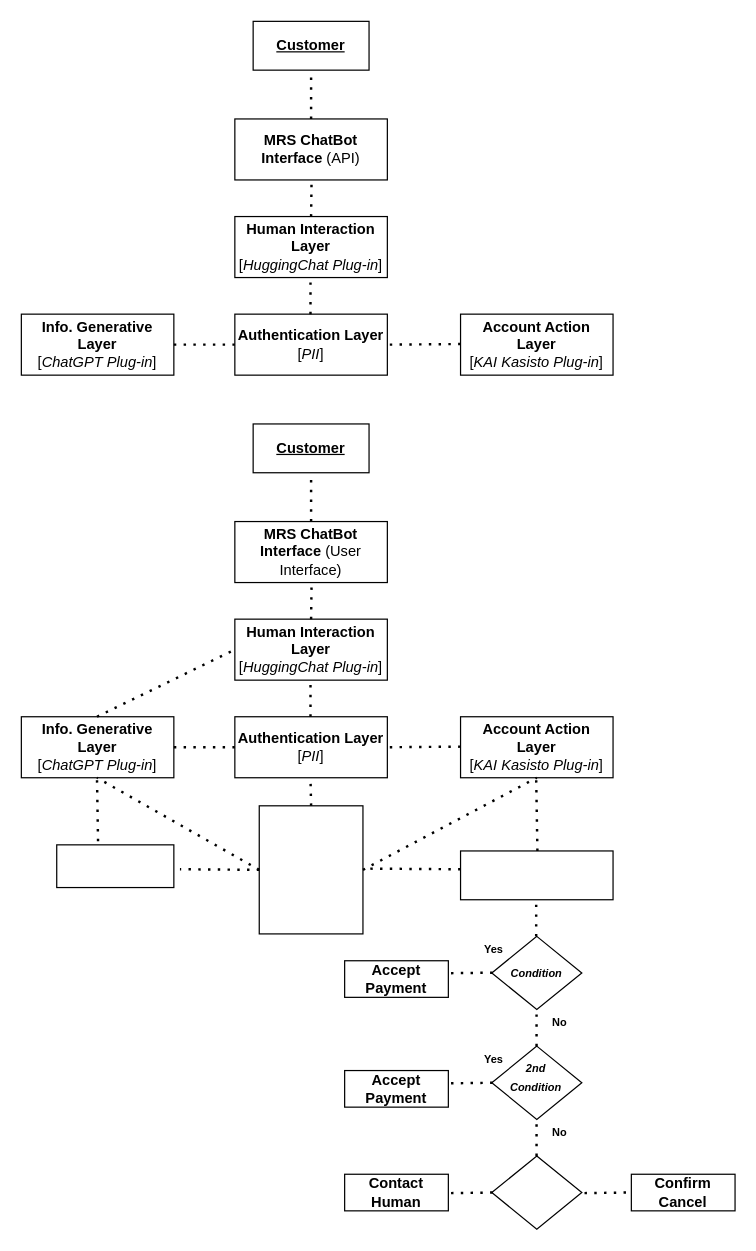
Some shapes in this 756 by 1251 pixel diagram are drawn without their labels. The box of each missing label's shape, as (x1, y1, x2, y2) in pixels:
Bill Payment: (459, 850, 613, 900)
Client Data (Account Information, Rules. Regulations, Policies, Procedures): (258, 805, 363, 934)
FAQ's: (56, 844, 174, 888)
Opt-Out Condition: (491, 1155, 582, 1229)
